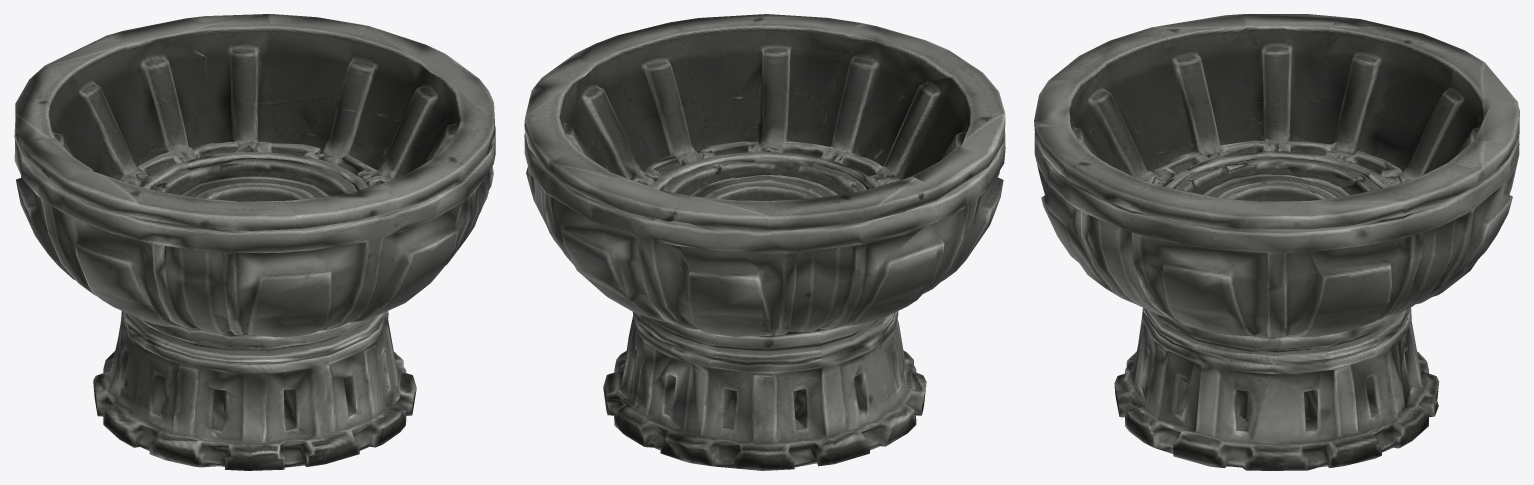
The model's file is og_brazier.glb.
3 views of the same model, side by side, from view 1: azimuth 30°, elevation 25°; view 2: azimuth 150°, elevation 25°; view 3: azimuth 270°, elevation 25° (orthographic).
Size of the model in its own units: 1.89 by 1.26 by 1.9.
Materials: 1 (1 with a texture image).
